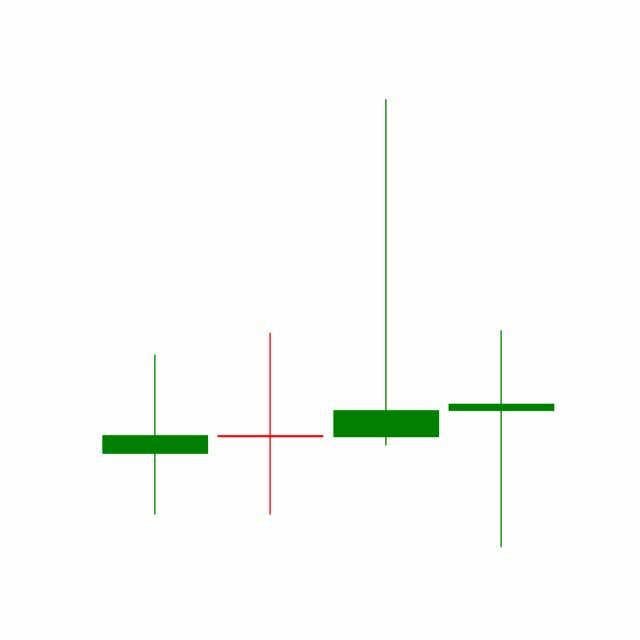Gravestone Doji: (329, 96, 445, 451)
